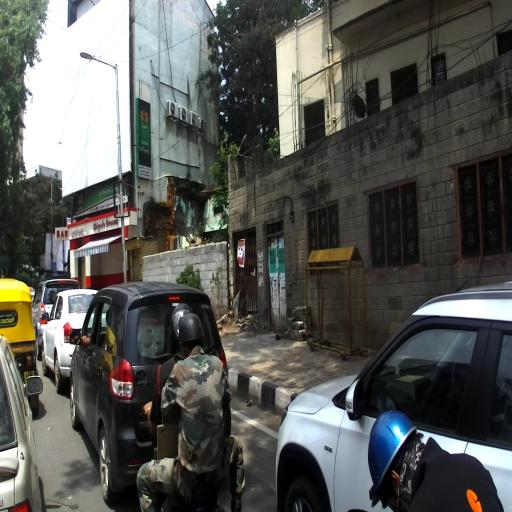street_light_0: (81, 54, 118, 70)
